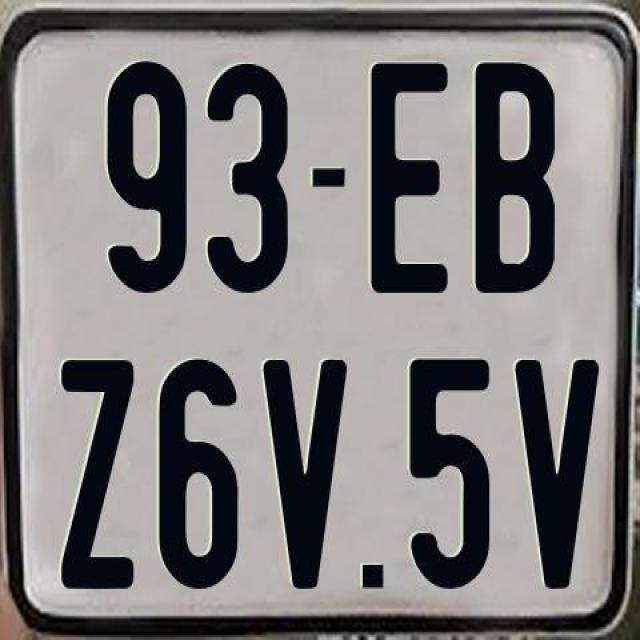3: (206, 59, 294, 288)
5: (405, 357, 492, 589)
6: (156, 358, 244, 592)
9: (102, 61, 190, 296)
B: (476, 60, 560, 298)
E: (371, 58, 448, 288)
V: (514, 358, 602, 592), (261, 356, 347, 594)
Z: (59, 360, 138, 595)
